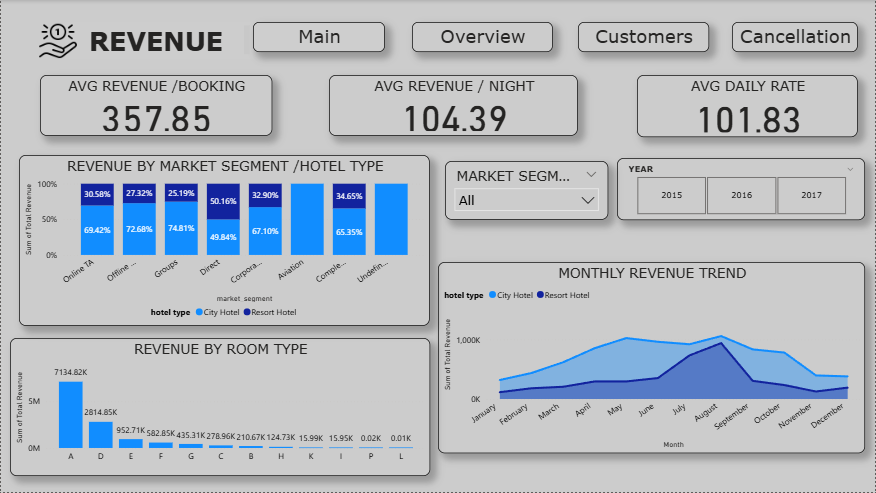

What the dashboard file says about the page in this screenshot:
{"tool":"powerbi","page":{"name":"REVENUE","canvas":[1280,720],"ordinal":2},"visuals":[{"type":"actionButton","title":"Overview","box":[601.5,32.2,206.3,43.9],"z":0},{"type":"actionButton","title":"Customers","box":[844.4,32.2,191.7,43.9],"z":1000},{"type":"actionButton","title":"Cancellation","box":[1069.8,32.2,184.4,43.9],"z":2000},{"type":"actionButton","title":"Main","box":[368.8,32.2,193.2,43.9],"z":3000},{"type":"textbox","box":[93.7,32.2,275.1,54.1],"z":4000},{"type":"card","title":"AVG REVENUE /BOOKING","fields":{"Values":["hotel_bookings.Average Revenue per Booking"]},"box":[57.1,109.8,339.5,89.3],"z":5000},{"type":"card","title":"AVG REVENUE / NIGHT","fields":{"Values":["hotel_bookings.Average Revenue per Night"]},"box":[480,109.8,364.4,89.3],"z":6000},{"type":"card","title":"AVG DAILY RATE","fields":{"Values":["hotel_bookings.Average Daily Rate (ADR)"]},"box":[930.7,109.8,323.4,90.7],"z":7000},{"type":"areaChart","title":"MONTHLY REVENUE TREND","fields":{"Category":["hotel_bookings.arrival_date_month"],"Y":["Sum(hotel_bookings.Total Revenue)"],"Series":["hotel_bookings.hotel type"]},"box":[639.5,383.4,624.9,279.5],"z":8000},{"type":"hundredPercentStackedColumnChart","title":"REVENUE BY MARKET SEGMENT /HOTEL TYPE","fields":{"Category":["hotel_bookings.market_segment"],"Y":["Sum(hotel_bookings.Total Revenue)"],"Series":["hotel_bookings.hotel type"]},"box":[26.3,226.8,601.5,250.2],"z":9000},{"type":"clusteredColumnChart","title":"REVENUE BY ROOM TYPE","fields":{"Y":["Sum(hotel_bookings.Total Revenue)"],"Category":["hotel_bookings.assigned_room_type"]},"box":[13.2,494.6,614.6,202],"z":10000},{"type":"slicer","fields":{"Values":["hotel_bookings.arrival_date_year"]},"box":[901.5,231.2,362.9,90.7],"z":11000},{"type":"slicer","fields":{"Values":["hotel_bookings.market_segment"]},"box":[649.8,235.6,238.5,86.3],"z":12000},{"type":"image","box":[42.4,24.9,82,70.2],"z":13000}]}

Visuals, with their boxes in screenshot pixels (x1, y1, x2, y2), scaled from the page's 1280x720 canvas onto the 876x493 screenshot:
"Overview" actionButton: bbox=(412, 22, 553, 52)
"Customers" actionButton: bbox=(578, 22, 709, 52)
"Cancellation" actionButton: bbox=(732, 22, 858, 52)
"Main" actionButton: bbox=(252, 22, 385, 52)
textbox: bbox=(64, 22, 252, 59)
"AVG REVENUE /BOOKING" card: bbox=(39, 75, 271, 136)
"AVG REVENUE / NIGHT" card: bbox=(328, 75, 578, 136)
"AVG DAILY RATE" card: bbox=(637, 75, 858, 137)
"MONTHLY REVENUE TREND" areaChart: bbox=(438, 263, 865, 454)
"REVENUE BY MARKET SEGMENT /HOTEL TYPE" hundredPercentStackedColumnChart: bbox=(18, 155, 430, 327)
"REVENUE BY ROOM TYPE" clusteredColumnChart: bbox=(9, 339, 430, 477)
slicer - hotel_bookings.arrival_date_year: bbox=(617, 158, 865, 220)
slicer - hotel_bookings.market_segment: bbox=(445, 161, 608, 220)
image: bbox=(29, 17, 85, 65)
